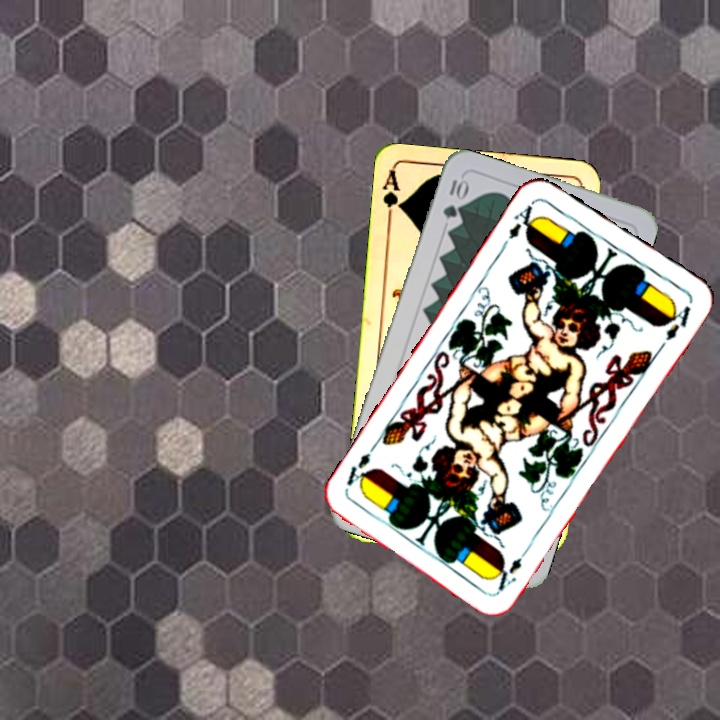EA: (494, 542, 533, 594), (504, 198, 541, 242)
G10: (438, 173, 470, 221)
GA: (379, 168, 405, 227)
